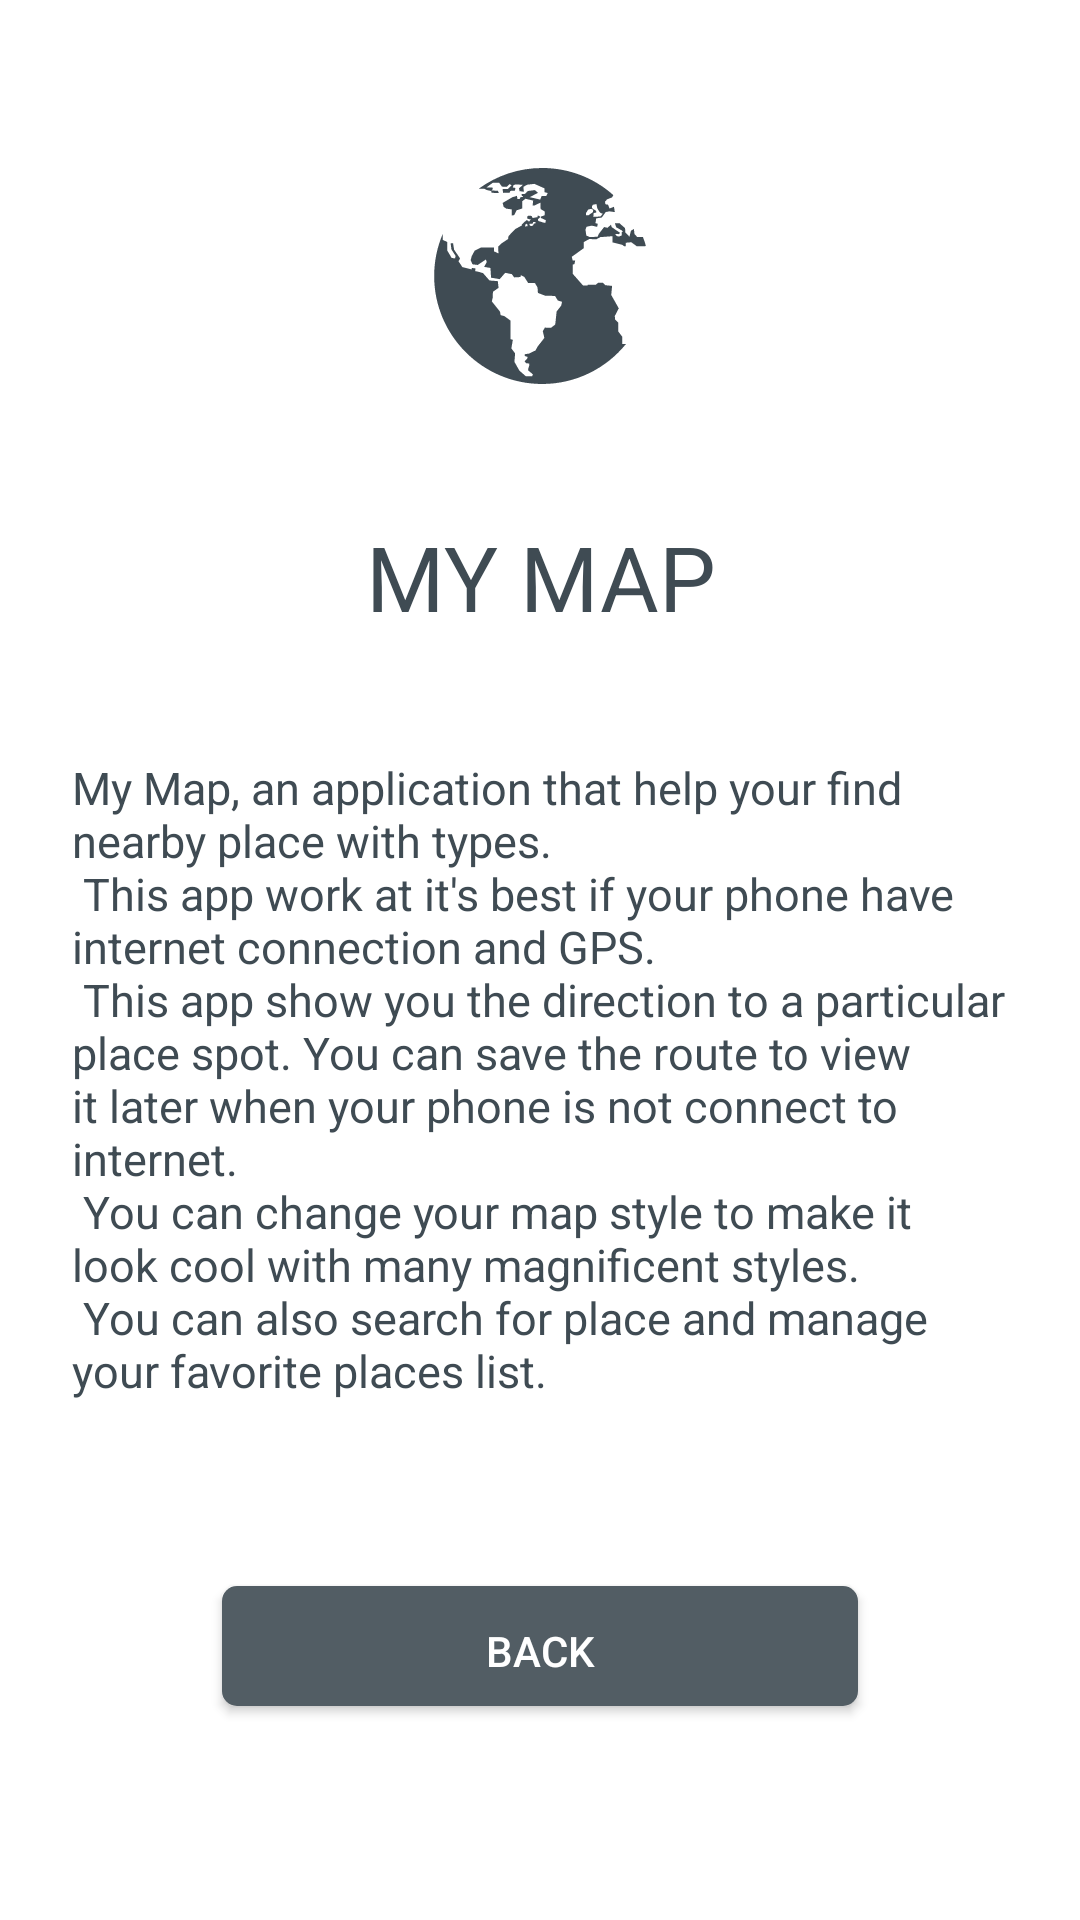

Screen size 1080 x 1920. Icon name, then its box in pixels as (x1, y1, x2, y2):
earth: (434, 168, 646, 384)
